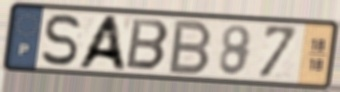7: (259, 23, 301, 81)
8: (217, 23, 253, 77)
A: (73, 14, 129, 73)
B: (166, 18, 215, 76), (124, 16, 172, 73)
S: (39, 12, 83, 68)
